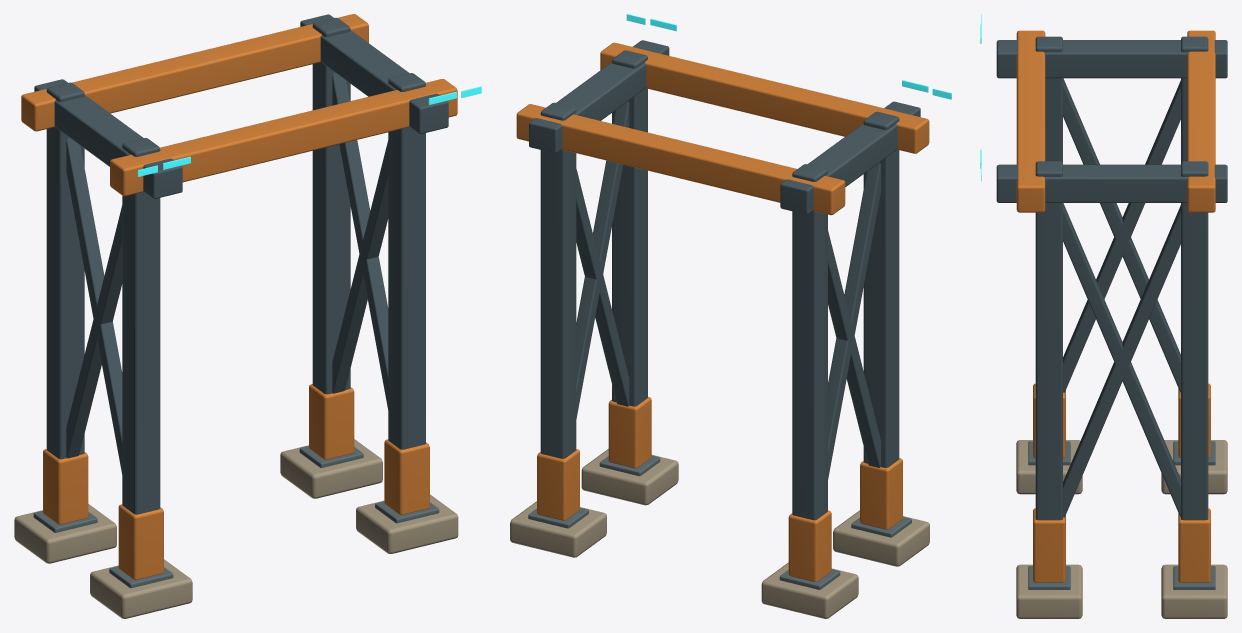
File: w7a-pole-one-perch.glb
3 views of the same model, side by side, from view 1: azimuth 30°, elevation 25°; view 2: azimuth 150°, elevation 25°; view 3: azimuth 270°, elevation 25° (orthographic). The views are drawn at different scales.
Parts seen in each view (by area): view 1: W7a landing | folded load column, W7a landing | folded load column.002, W7a landing | transverse beam, W7a landing | transverse beam.001, W7a landing | folded load column.001, W7a landing | folded load column.003, W7a landing | side web rising, W7a landing | underdeck channel.001, W7a landing | underdeck channel, W7a landing | side web rising.001, W7a landing | side web descending, W7a landing | side web descending.001 (+8 smaller); view 2: W7a landing | folded load column.003, W7a landing | folded load column.001, W7a landing | transverse beam.001, W7a landing | transverse beam, W7a landing | folded load column, W7a landing | folded load column.002, W7a landing | side web descending, W7a landing | underdeck channel, W7a landing | underdeck channel.001, W7a landing | side web descending.001, W7a landing | side web rising, W7a landing | side web rising.001 (+8 smaller); view 3: W7a landing | folded load column.002, W7a landing | folded load column.003, W7a landing | underdeck channel, W7a landing | underdeck channel.001, W7a landing | transverse beam, W7a landing | side web rising.001, W7a landing | transverse beam.001, W7a landing | side web descending.001, W7a landing | side web rising, W7a landing | side web descending, W7a landing | pier footing.002, W7a landing | pier footing.003 (+10 smaller).
Part boxes in pixels (left/top/right/bottom): W7a landing | folded load column: left=122, top=138, right=160, bottom=514; W7a landing | folded load column.002: left=388, top=73, right=425, bottom=449; W7a landing | transverse beam: left=110, top=79, right=457, bottom=196; W7a landing | transverse beam.001: left=21, top=14, right=368, bottom=131; W7a landing | folded load column.001: left=46, top=82, right=84, bottom=459; W7a landing | folded load column.003: left=312, top=17, right=350, bottom=394; W7a landing | side web rising: left=66, top=138, right=122, bottom=474; W7a landing | underdeck channel.001: left=300, top=14, right=448, bottom=133; W7a landing | underdeck channel: left=34, top=79, right=182, bottom=198; W7a landing | side web rising.001: left=332, top=73, right=388, bottom=409; W7a landing | side web descending: left=66, top=205, right=122, bottom=458; W7a landing | side web descending.001: left=332, top=140, right=388, bottom=393; W7a landing | folded load column.003: left=540, top=102, right=576, bottom=458; W7a landing | folded load column.001: left=792, top=164, right=827, bottom=520; W7a landing | transverse beam.001: left=516, top=104, right=845, bottom=215; W7a landing | transverse beam: left=600, top=42, right=929, bottom=153; W7a landing | folded load column: left=863, top=111, right=899, bottom=467; W7a landing | folded load column.002: left=612, top=50, right=647, bottom=406; W7a landing | side web descending: left=828, top=162, right=880, bottom=479; W7a landing | underdeck channel: left=780, top=101, right=920, bottom=214; W7a landing | underdeck channel.001: left=529, top=40, right=669, bottom=153; W7a landing | side web descending.001: left=576, top=101, right=629, bottom=418; W7a landing | side web rising: left=828, top=231, right=880, bottom=467; W7a landing | side web rising.001: left=576, top=169, right=629, bottom=406; W7a landing | folded load column.002: left=1035, top=161, right=1062, bottom=520; W7a landing | folded load column.003: left=1181, top=161, right=1208, bottom=520; W7a landing | underdeck channel: left=996, top=40, right=1227, bottom=78; W7a landing | underdeck channel.001: left=996, top=164, right=1227, bottom=202; W7a landing | transverse beam: left=1016, top=30, right=1045, bottom=212; W7a landing | side web rising.001: left=1063, top=205, right=1180, bottom=517; W7a landing | transverse beam.001: left=1187, top=30, right=1215, bottom=212; W7a landing | side web descending.001: left=1063, top=203, right=1180, bottom=516; W7a landing | side web rising: left=1063, top=80, right=1180, bottom=392; W7a landing | side web descending: left=1063, top=78, right=1180, bottom=392; W7a landing | pier footing.002: left=1016, top=564, right=1082, bottom=618; W7a landing | pier footing.003: left=1161, top=564, right=1227, bottom=618.
Size of what is drawn, in the model's own units: 3.33 by 4.32 by 2.16.
